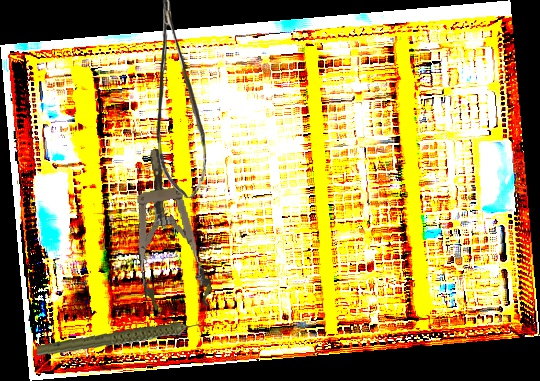Handpiece: (36, 307, 211, 373)
Micro Scissor: (156, 0, 208, 198)
Speculum: (122, 143, 215, 316)
